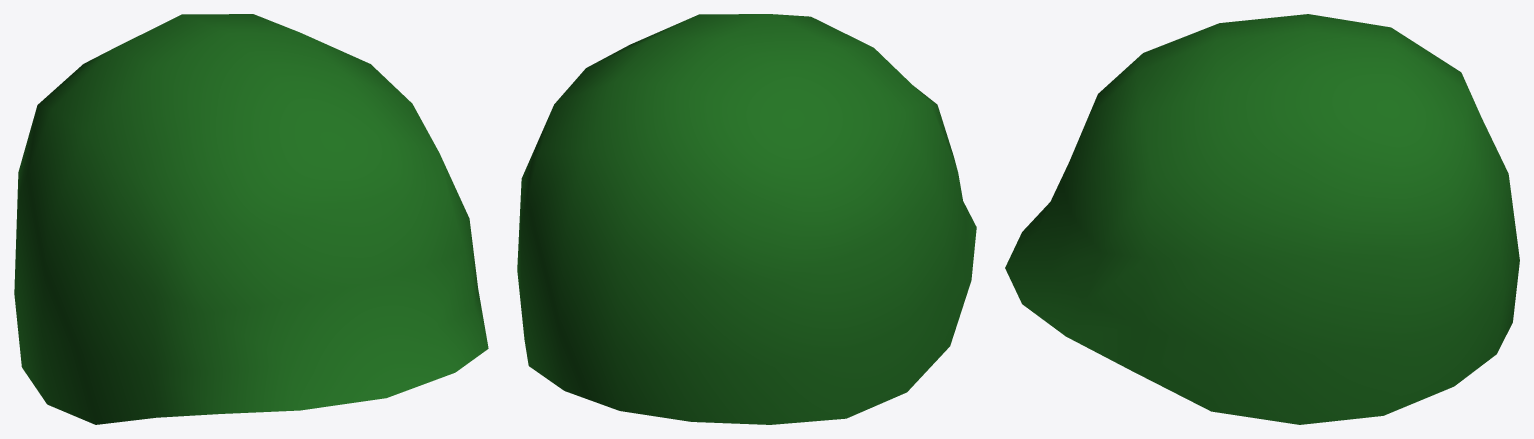
File: army-helmet.fbx
3 views of the same model, side by side, from view 1: azimuth 30°, elevation 25°; view 2: azimuth 150°, elevation 25°; view 3: azimuth 270°, elevation 25° (orthographic). The views are drawn at different scales.
Visible parts, largest first — view 1: m_ArmyHelmet01; view 2: m_ArmyHelmet01; view 3: m_ArmyHelmet01.
Boxes of the visible parts, bbox=[...] form: m_ArmyHelmet01: bbox=[14, 14, 488, 424]; m_ArmyHelmet01: bbox=[517, 14, 976, 424]; m_ArmyHelmet01: bbox=[1005, 14, 1519, 424].
Size of the model in its own units: 525 by 430 by 652.
